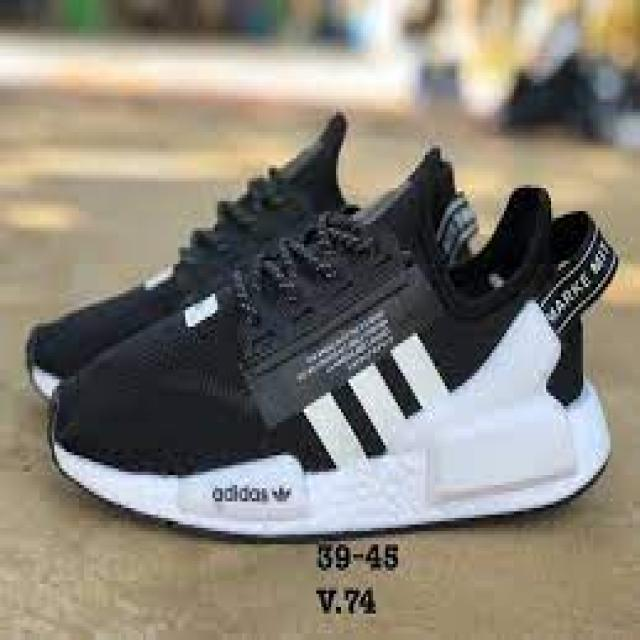shoe: (51, 147, 612, 541)
